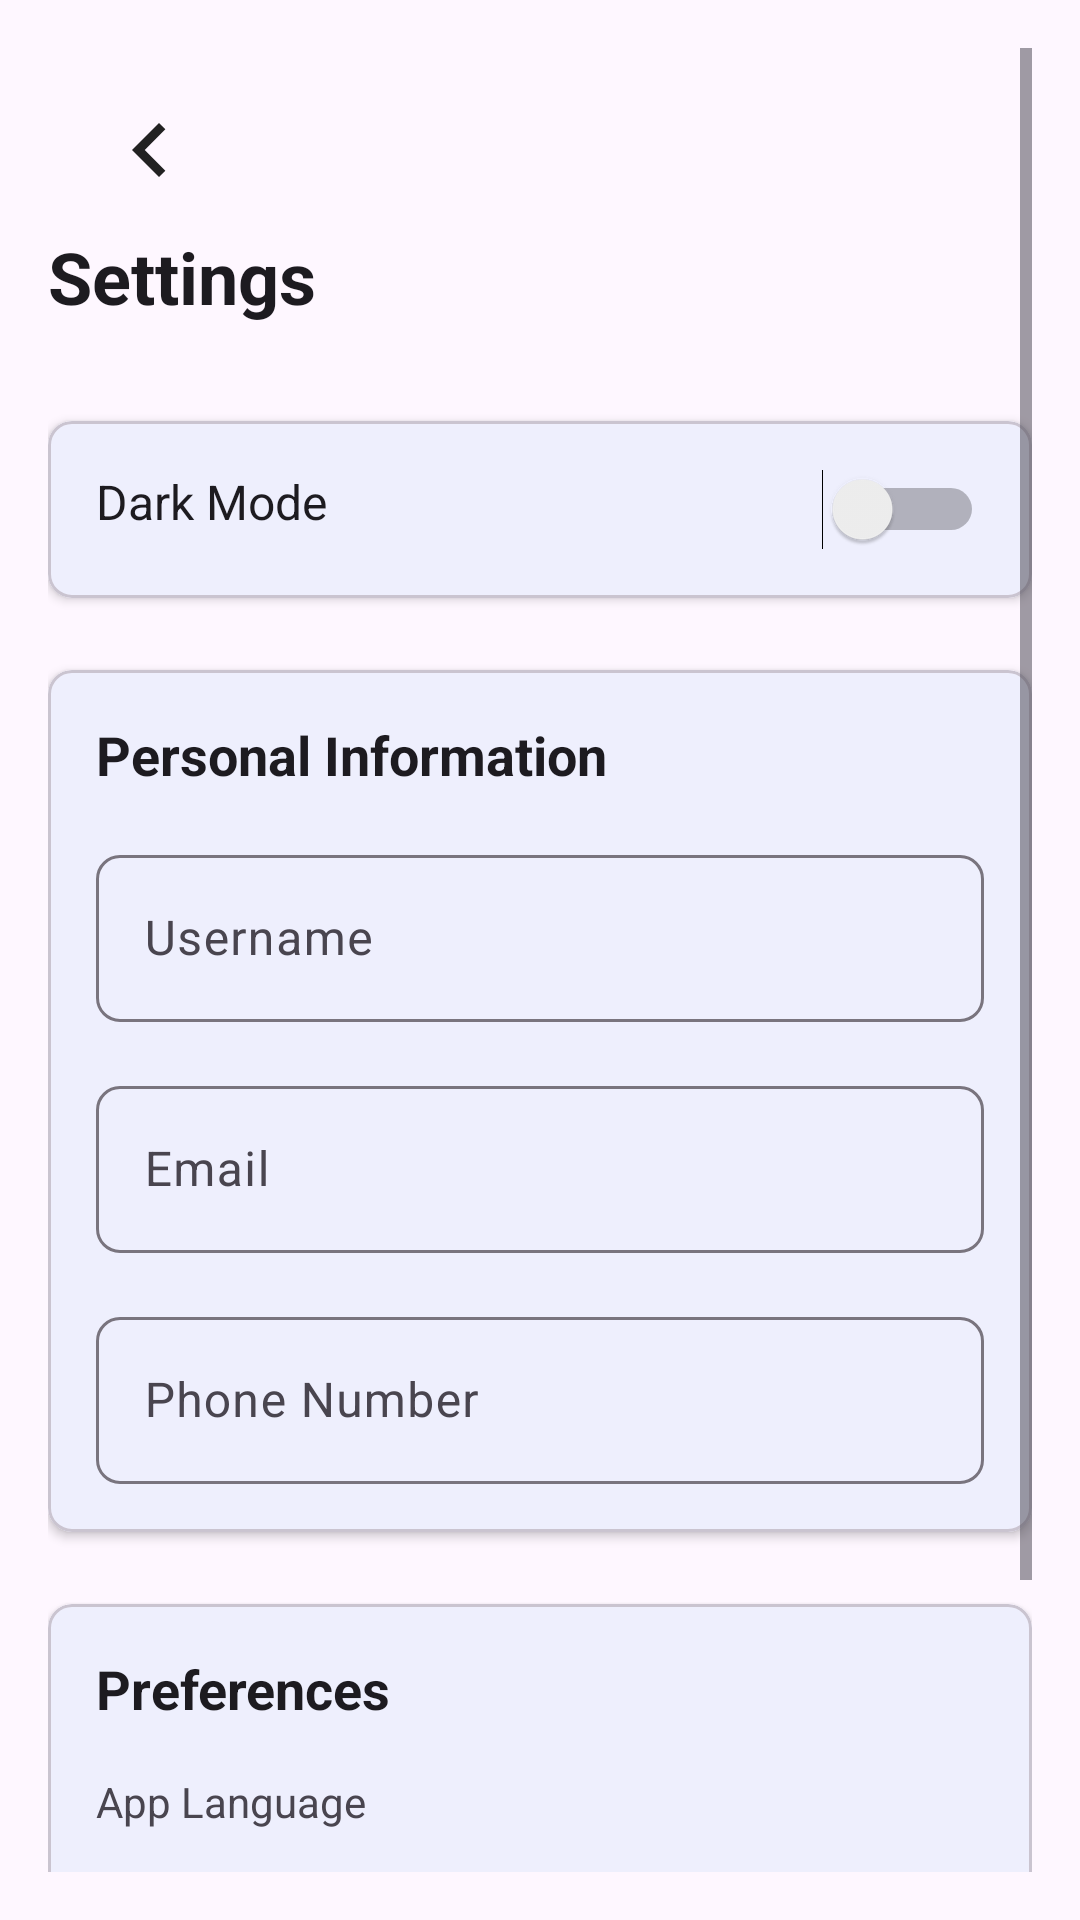

Icon bounding boxes for this 1080×1920 phone screenshot, format [x1=x1, y1=y1, x2=x2, y2=y2]:
Back: [x1=132, y1=123, x2=166, y2=177]
